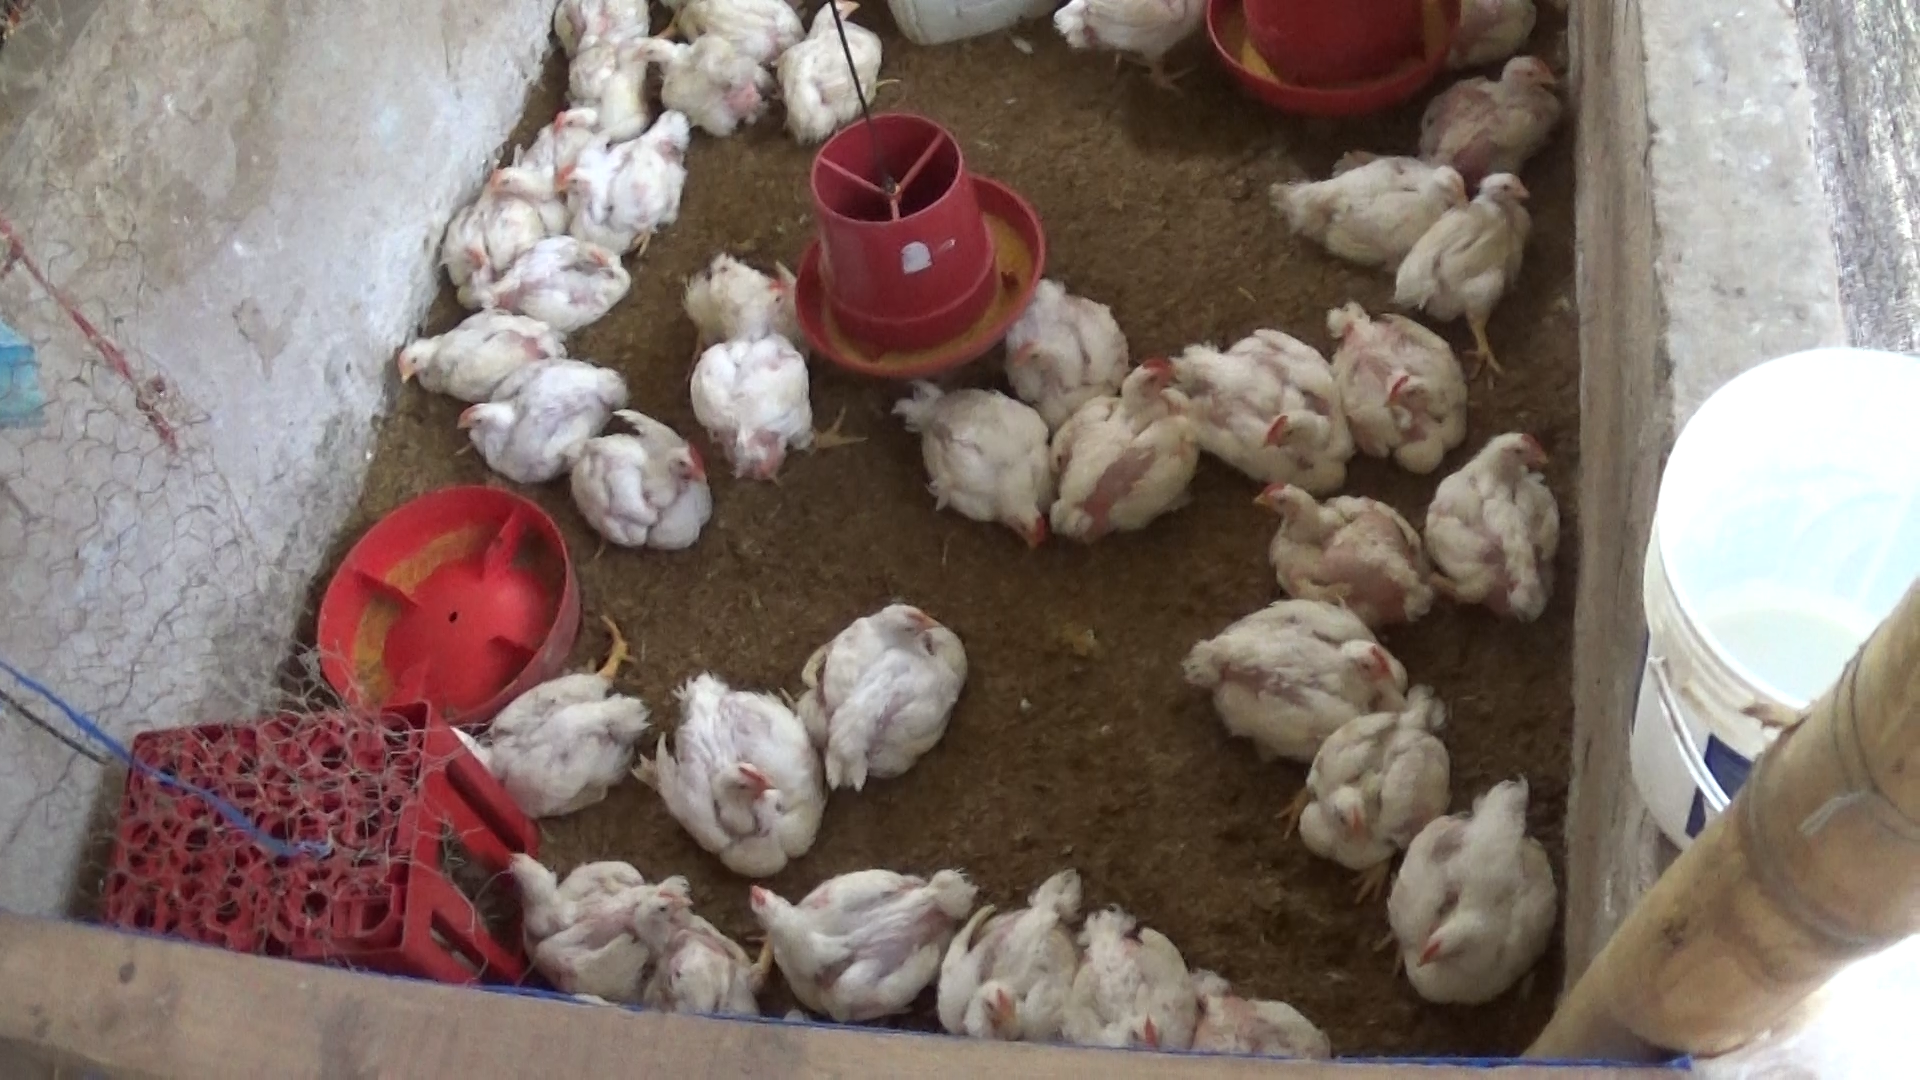Pollos: (1386, 766, 1571, 1027), (1189, 588, 1416, 778), (793, 592, 972, 794), (760, 848, 975, 1011), (1284, 692, 1458, 889), (657, 665, 818, 877), (1174, 318, 1360, 483), (456, 674, 641, 833), (491, 839, 662, 1002), (1048, 361, 1205, 535), (1429, 425, 1571, 617), (897, 386, 1051, 549), (1253, 479, 1431, 618), (1331, 311, 1468, 492), (928, 876, 1080, 1036), (1402, 175, 1534, 359), (454, 349, 621, 487), (1259, 144, 1451, 255), (686, 328, 822, 481), (574, 402, 713, 549), (1411, 51, 1582, 166), (634, 876, 773, 1009), (568, 98, 696, 241), (1035, 0, 1207, 105), (997, 268, 1124, 409), (1060, 920, 1187, 1056), (770, 0, 886, 144), (462, 232, 634, 328), (388, 311, 553, 404), (625, 26, 764, 132), (1180, 963, 1327, 1058), (655, 0, 816, 73), (666, 248, 796, 334), (479, 144, 609, 224), (534, 62, 644, 144)
